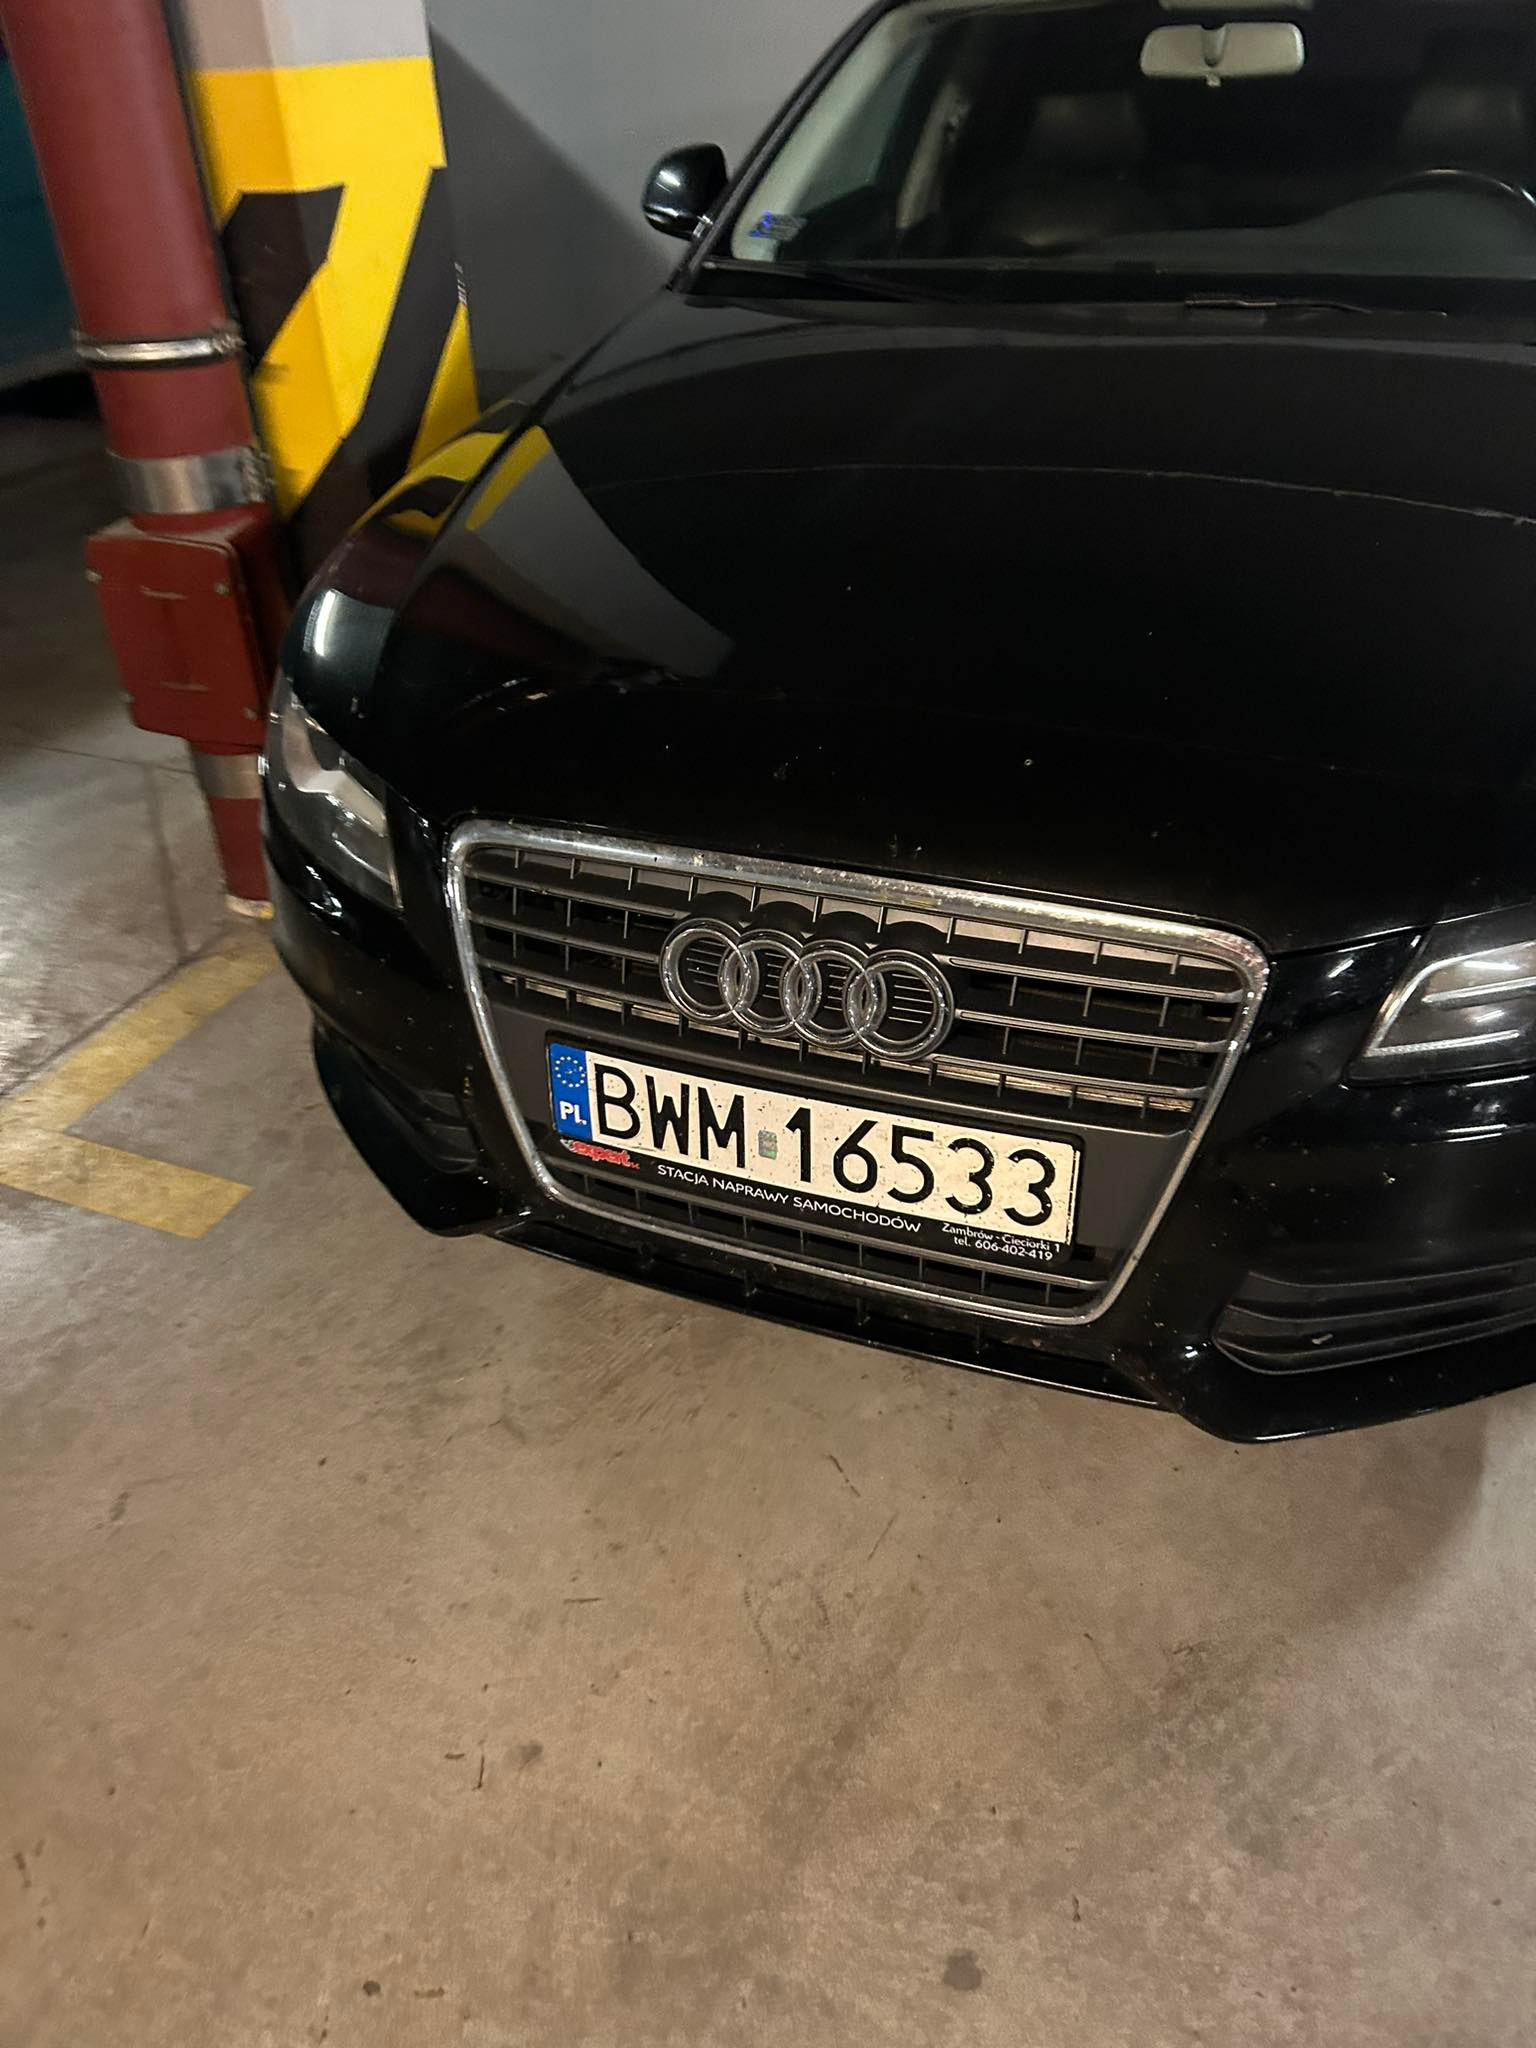number_plate: (541, 1032, 1079, 1259)
